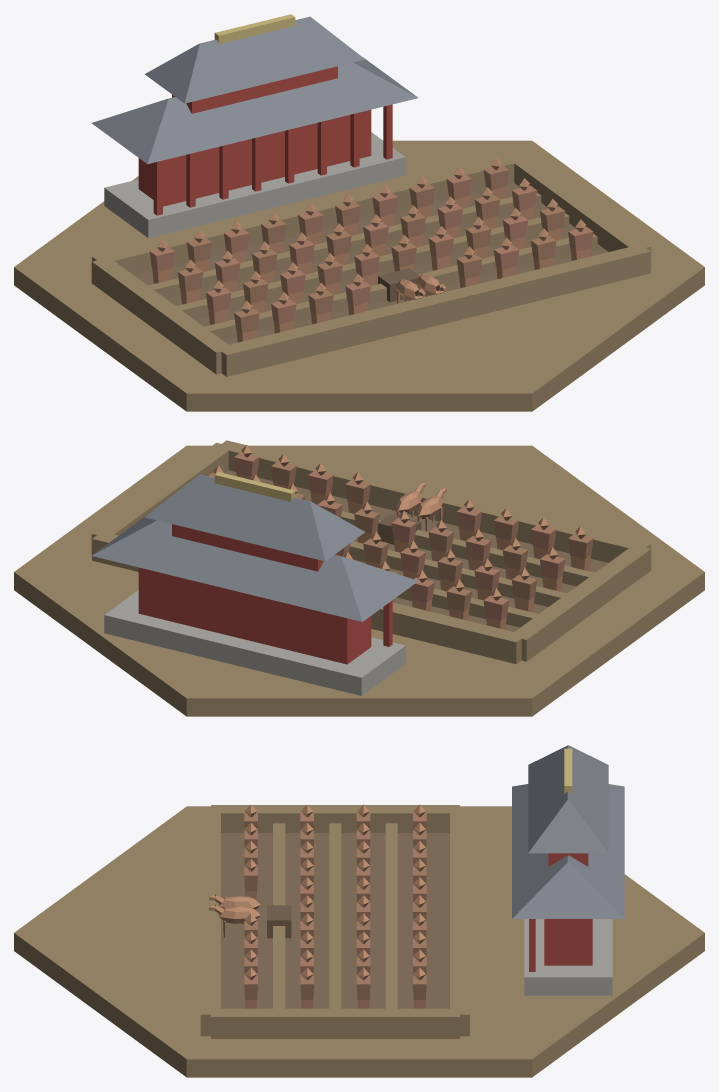
File: terracotta-army.glb
3 views of the same model, one above another, from view 1: azimuth 30°, elevation 25°; view 2: azimuth 150°, elevation 25°; view 3: azimuth 270°, elevation 25° (orthographic).
Parts seen in each view (by area): view 1: LOD0; view 2: LOD0; view 3: LOD0.
Boxes of the visible parts, x1,y1,x2,y2 form: LOD0: [14, 14, 704, 411]; LOD0: [14, 440, 704, 716]; LOD0: [14, 745, 704, 1077].
Size of what is drawn, in the model's own units: 1.49 by 0.505 by 1.72.
